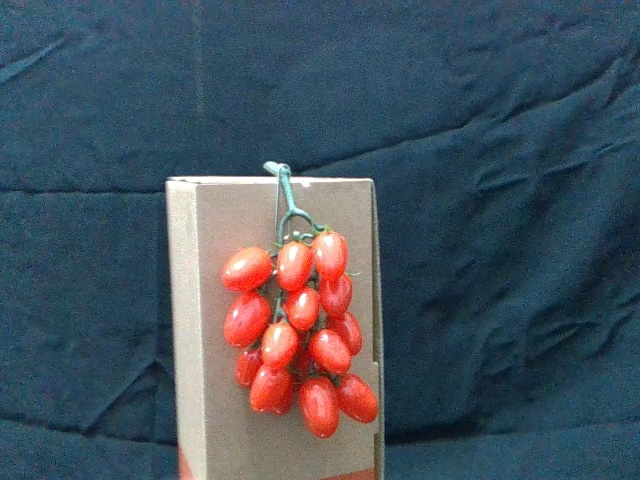tomato: (299, 376, 345, 444), (223, 291, 271, 350), (338, 371, 379, 426), (224, 247, 274, 291), (283, 284, 321, 335), (311, 328, 352, 374), (248, 367, 289, 413), (313, 229, 350, 279), (262, 322, 302, 368), (277, 241, 313, 292), (324, 309, 364, 353), (318, 274, 353, 318), (234, 344, 265, 389)
